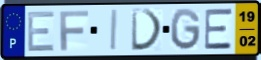D: (130, 8, 165, 53)
E: (203, 7, 234, 51), (25, 10, 56, 54)
F: (58, 9, 91, 52)
G: (169, 7, 203, 52)
I: (109, 8, 120, 53)
